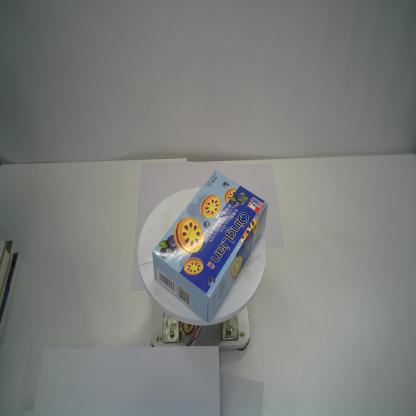Dessert: (152, 168, 268, 323)
